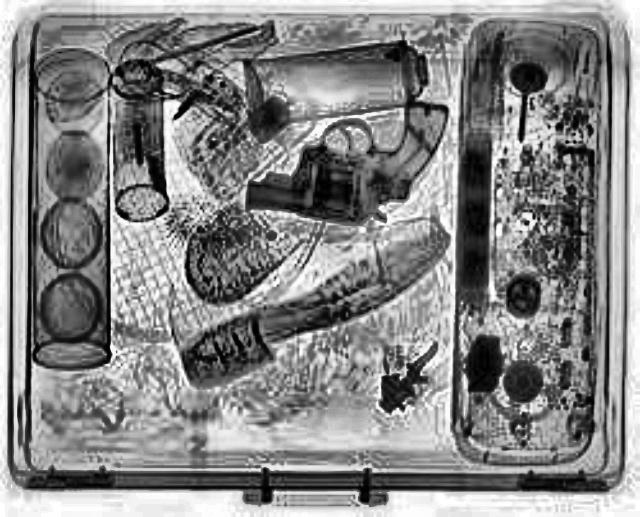Gun: (237, 97, 448, 223)
